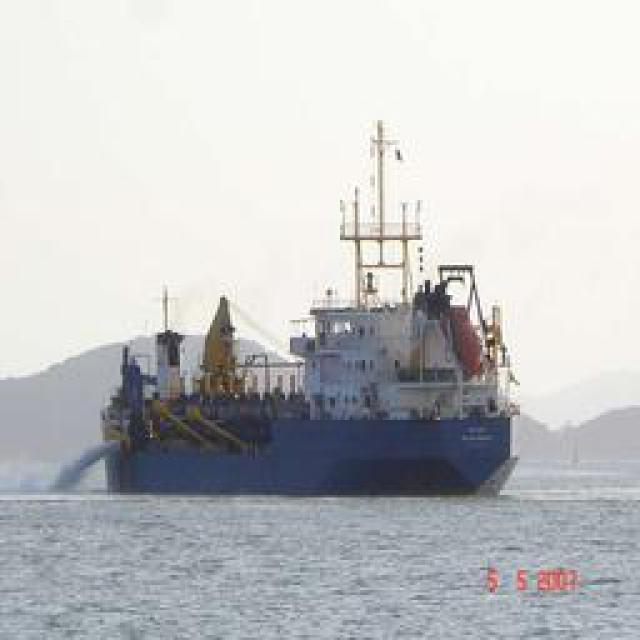Ship: (98, 117, 516, 498)
